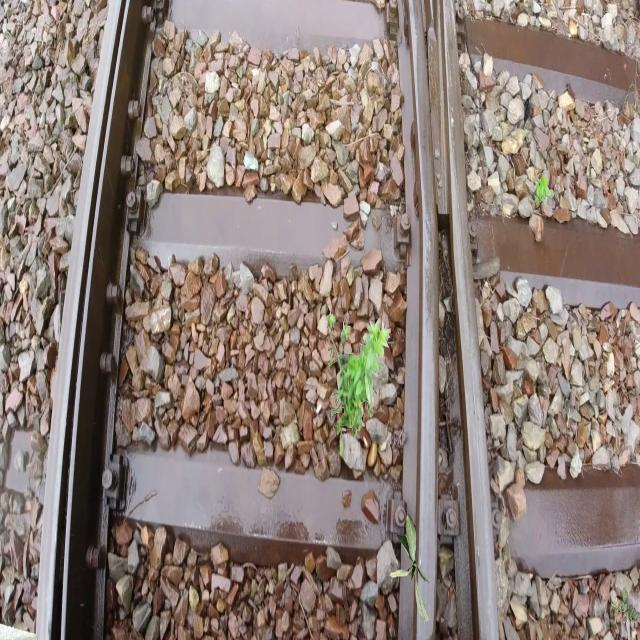Plant: (326, 310, 391, 453), (390, 514, 430, 624), (611, 587, 638, 628), (534, 175, 554, 208)
